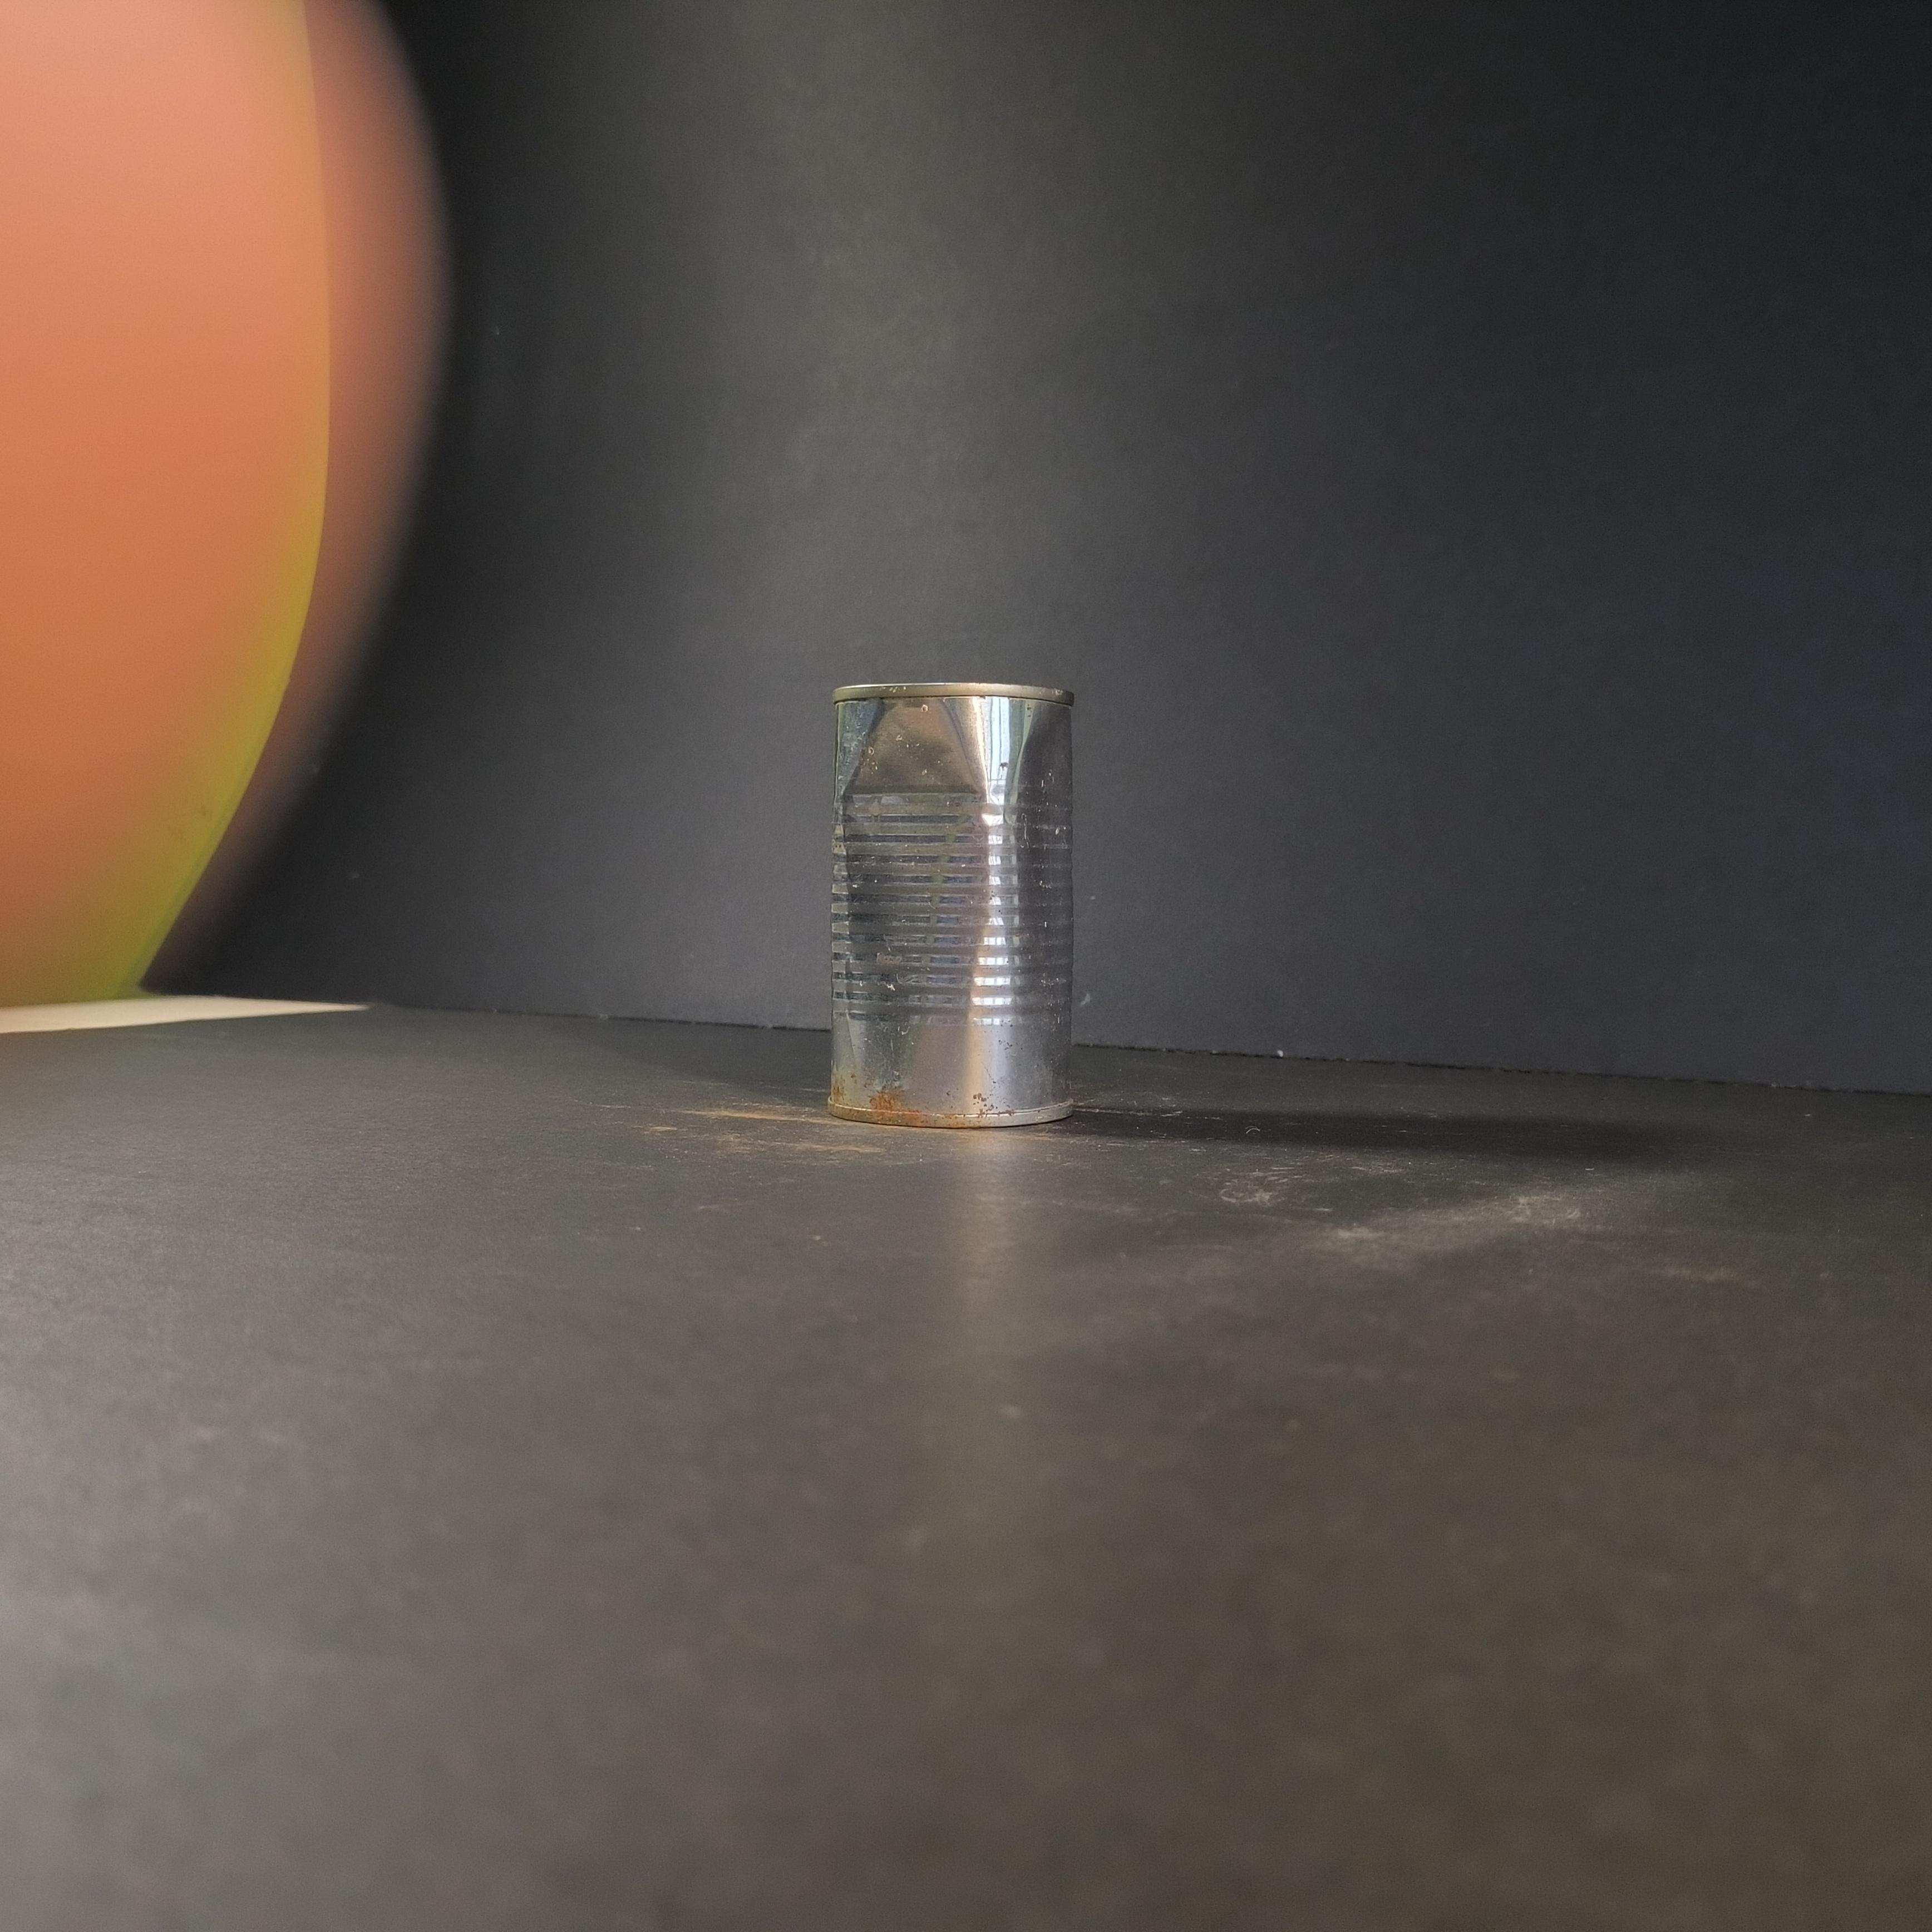Dented: (807, 656, 1102, 1146)
